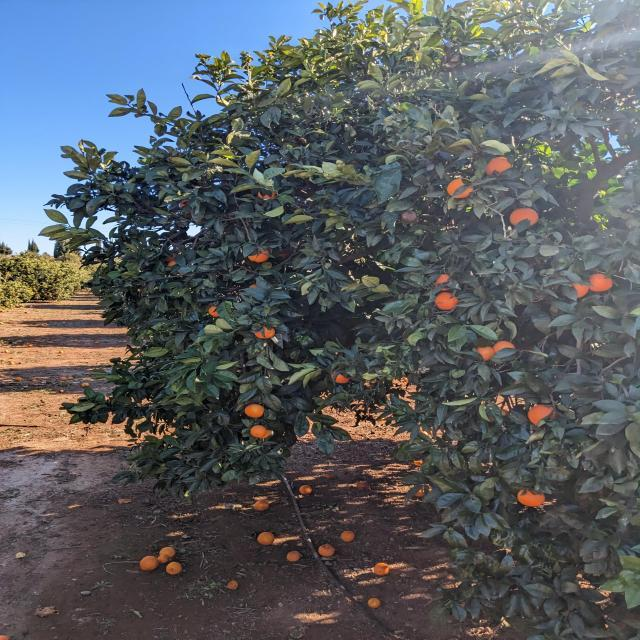Jeruk Sudah Matang: (507, 208, 541, 227), (484, 156, 514, 176), (516, 490, 548, 508), (590, 272, 614, 293), (526, 404, 550, 424), (436, 292, 459, 311), (446, 178, 466, 198), (250, 424, 272, 442), (242, 404, 266, 418), (248, 250, 272, 264), (256, 328, 278, 342), (140, 556, 158, 572), (493, 340, 515, 353), (575, 282, 592, 298), (476, 346, 494, 361), (257, 530, 274, 544), (160, 548, 176, 561), (436, 272, 452, 285), (206, 304, 220, 318), (335, 374, 351, 386), (166, 255, 180, 268), (258, 192, 274, 203), (342, 529, 356, 541), (168, 563, 182, 574), (286, 552, 300, 563), (228, 582, 238, 590)
